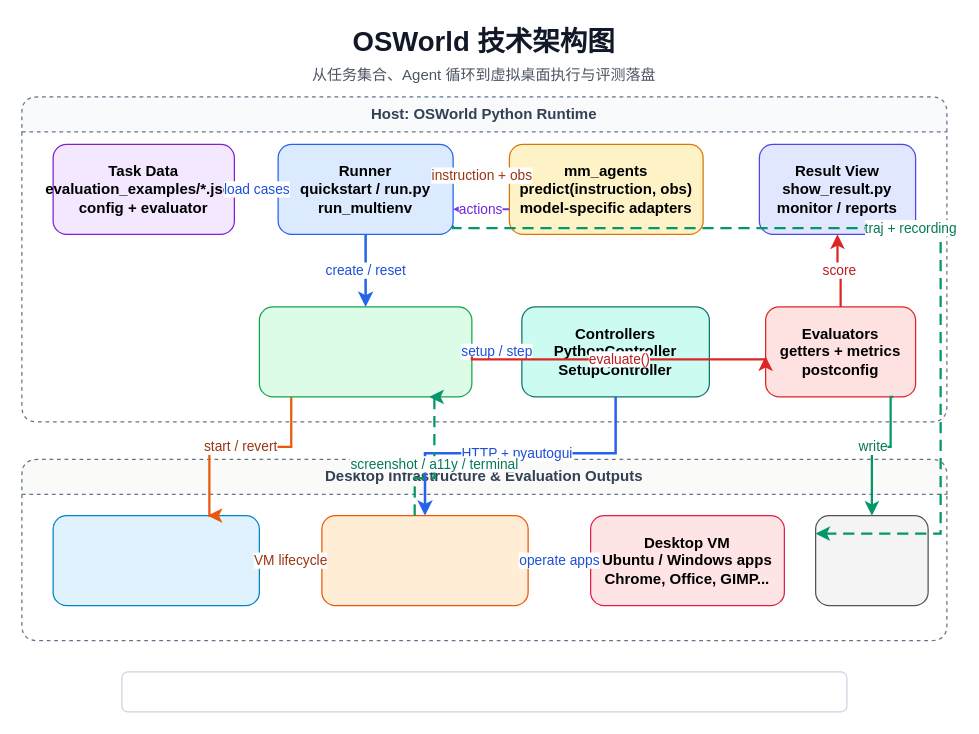
Image size: 979x734. Some labels were removed from this diagram. Each missing label, with the box of its shape:
Artifacts traj.jsonl / screenshots recording.mp4 / result.txt: (814, 514, 928, 606)
DesktopEnv Gym Env facade reset / step / evaluate: (258, 306, 472, 397)
Guest Server /screenshot / terminal execute Python command: (321, 514, 528, 606)
Providers / Managers vmware / docker / aws snapshot + IP + ports: (52, 514, 259, 606)
实线蓝=主执行流 橙=生命周期/控制 绿虚线=观测/写入 紫虚线=Agent 动作回路: (121, 671, 847, 712)
